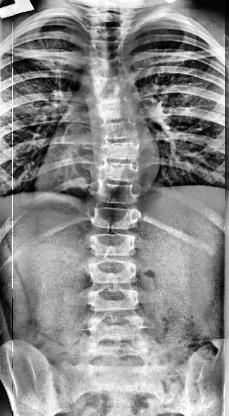Vertebrae: (83, 315, 149, 343), (84, 206, 144, 232), (82, 260, 144, 284), (83, 288, 146, 310), (88, 233, 140, 257), (89, 182, 144, 204), (96, 118, 140, 140), (92, 95, 134, 118), (96, 161, 144, 181), (96, 140, 142, 160), (90, 56, 128, 76), (88, 76, 130, 94), (87, 40, 126, 57), (86, 26, 130, 38)
